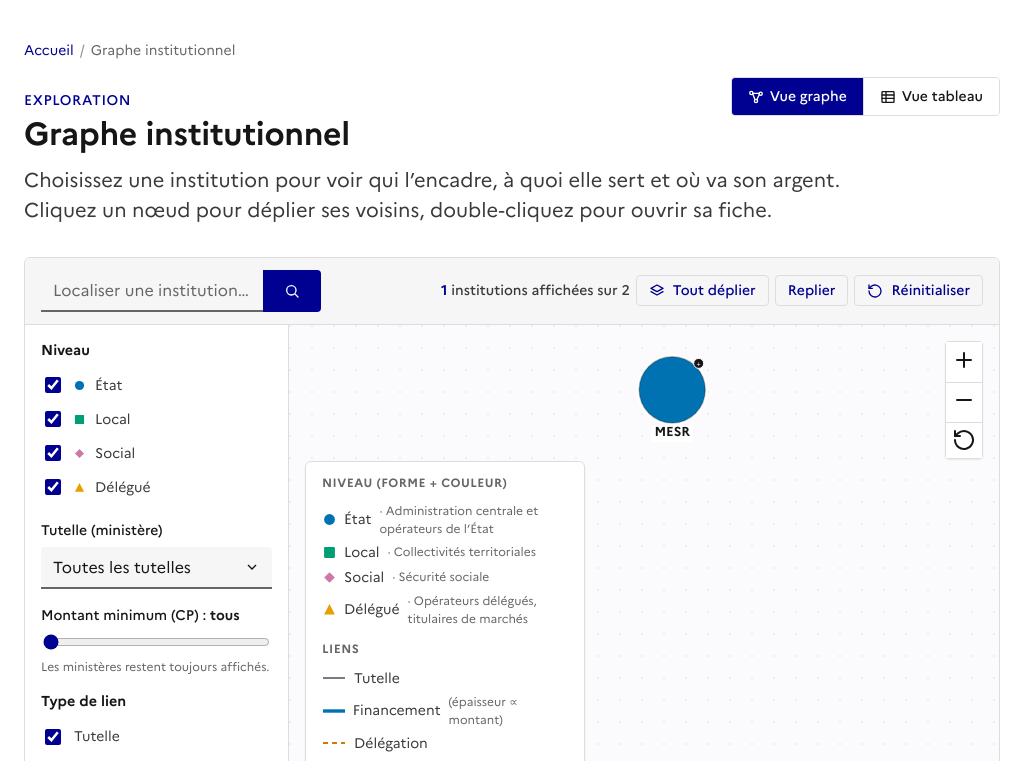
GraphPage (institutional graph) › has no accessibility violations in the graph view chrome
The image size is (1024, 761).
Check: the text "1 institutions affichées sur 2" is shown, box [441,280,630,301]
Step 1. Type "Centre" into the field named "Localiser une institution dans le graphe" → (152, 291), box [41,270,263,312]
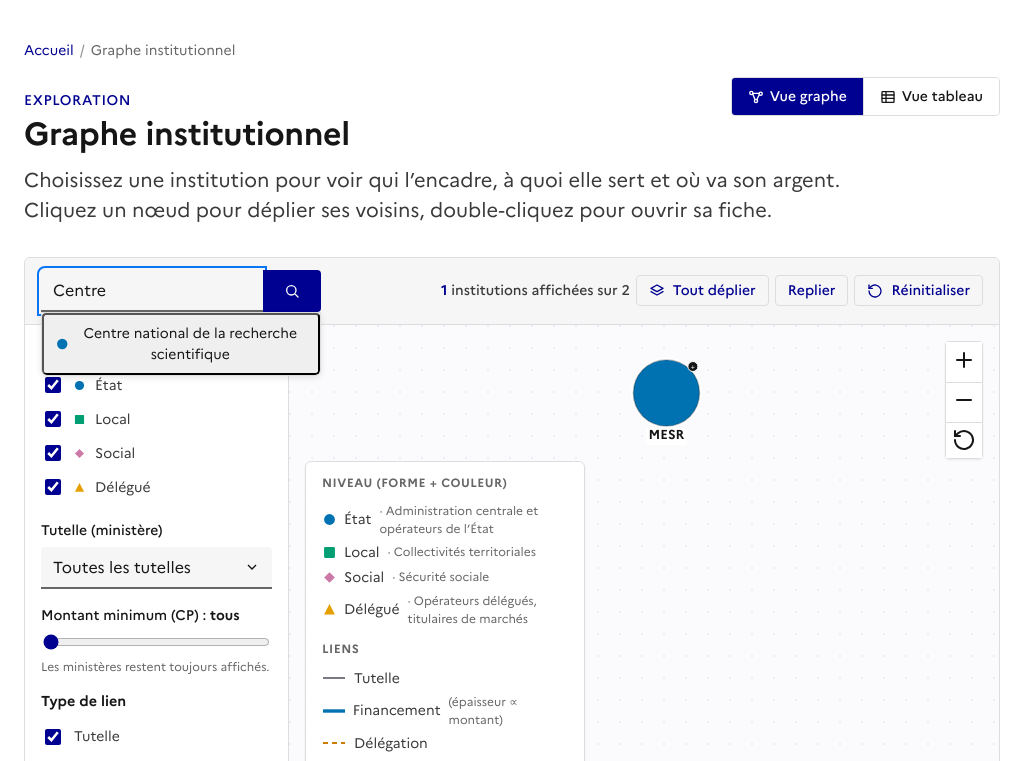
Check: the button "Centre national de la recherche scientifique" is shown, box [42,313,320,375]
